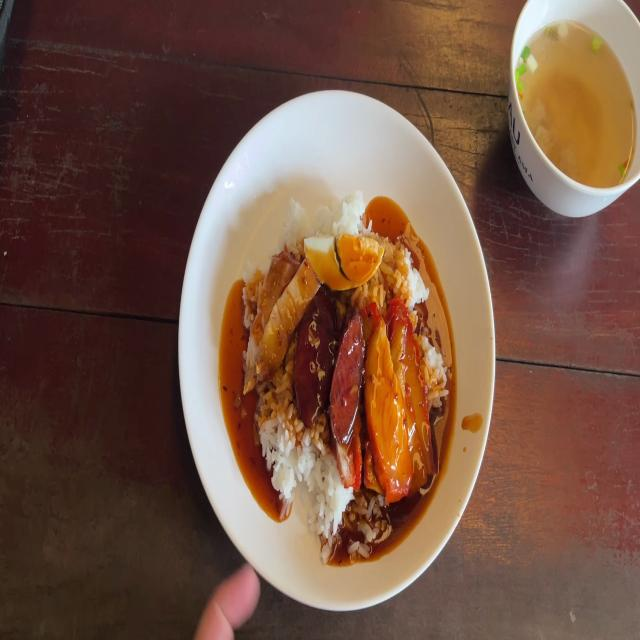01boiled_egg: (303, 236, 387, 284)
01chainese_sausage: (294, 301, 363, 439)
01crispy_pork: (247, 254, 314, 384)
01red_pork: (366, 298, 429, 491), (337, 444, 361, 489)
01red_pork_and_crispy_pork: (246, 186, 447, 558)
01rice: (263, 390, 304, 502), (385, 239, 427, 301), (301, 451, 335, 527)
